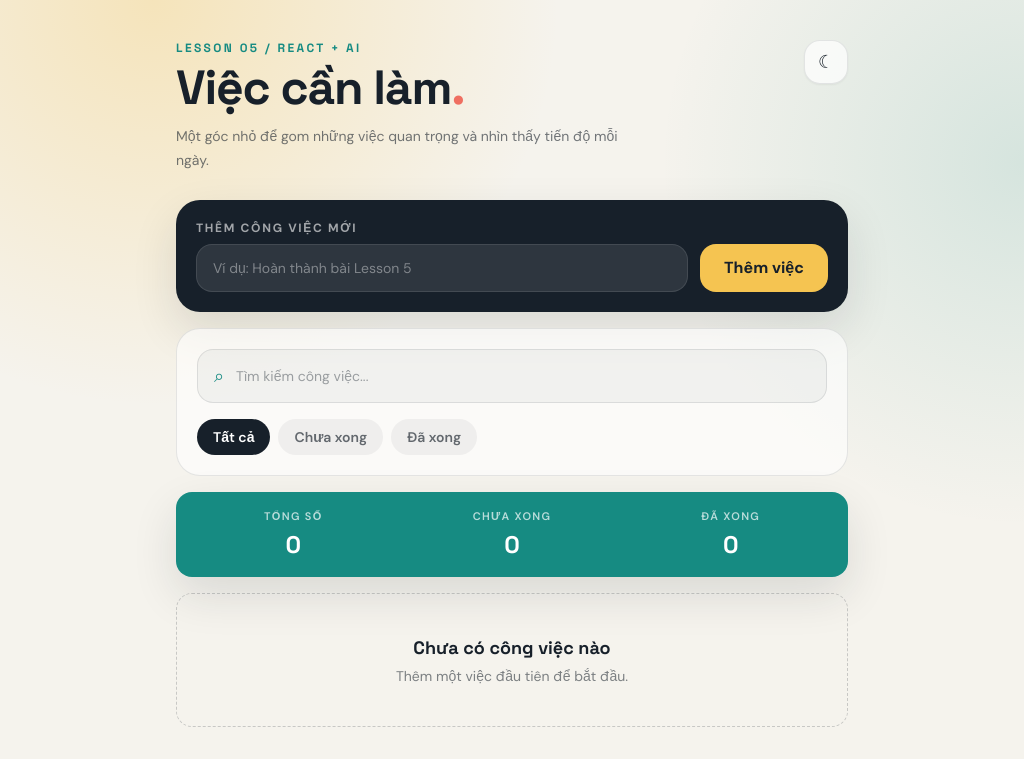
rejects an empty todo
Click the button "Thêm việc": click(764, 268) [700,244,828,292]
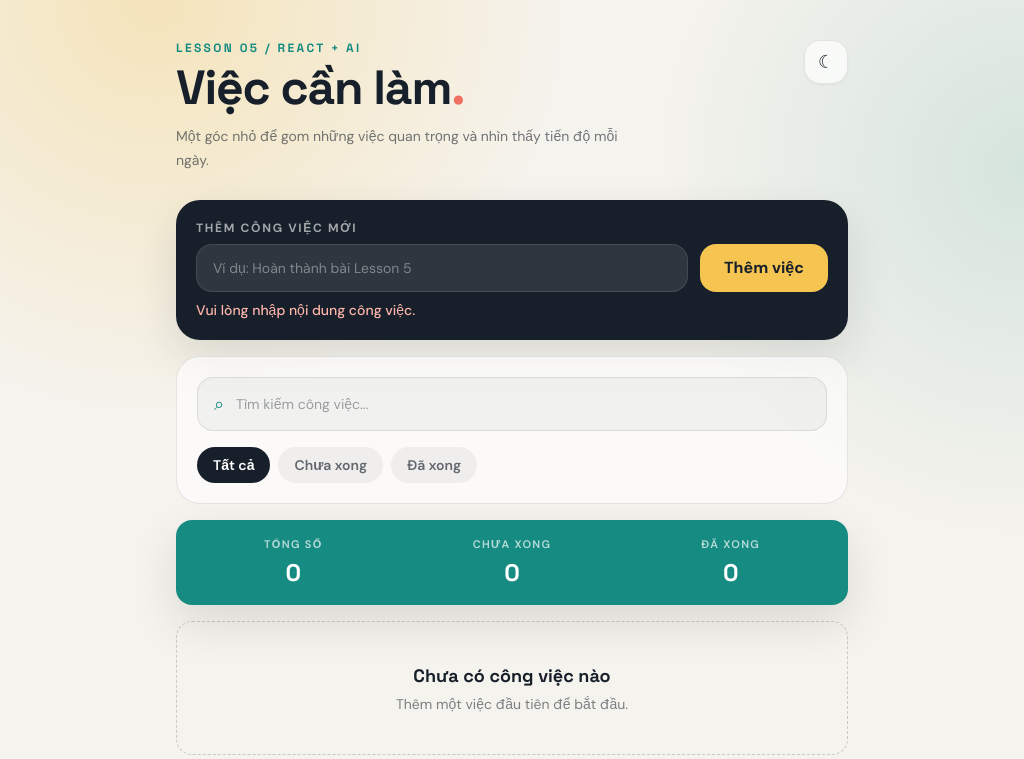
Now the message shows "Vui lòng nhập nội dung", box [196,301,415,319]
